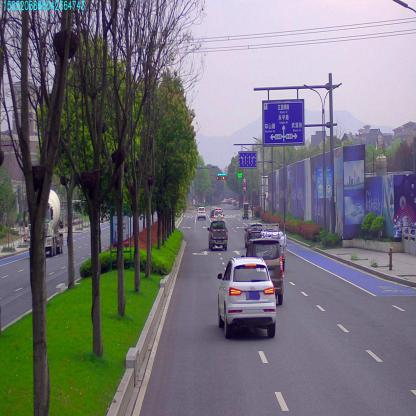traffic-light: (216, 171, 228, 176), (215, 175, 220, 179), (222, 176, 226, 180)
